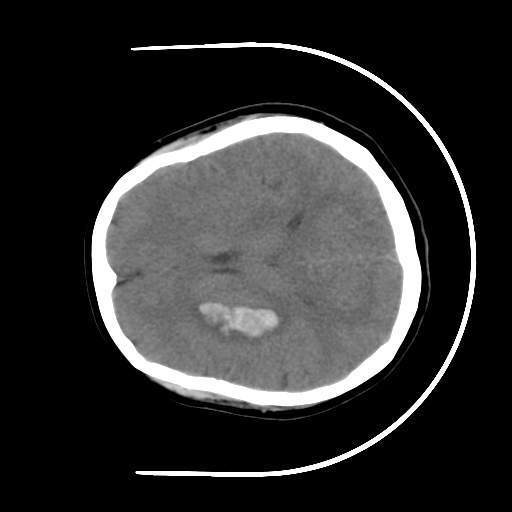a: (173, 284, 298, 359)
